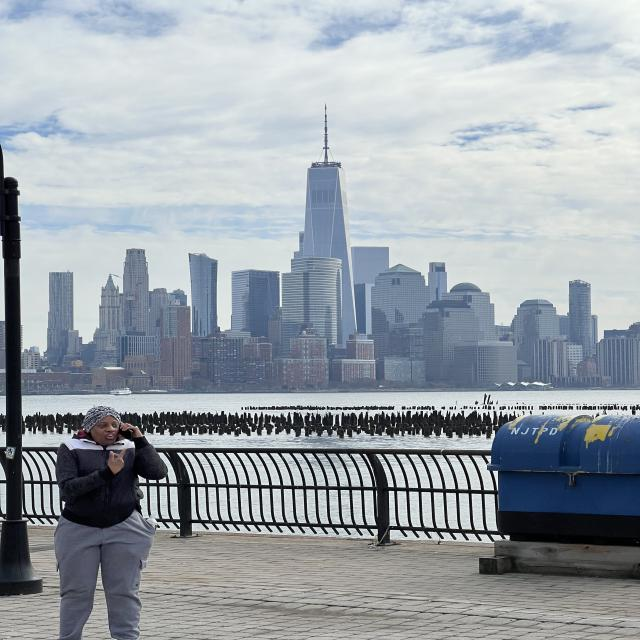WTC: (302, 105, 352, 258)
